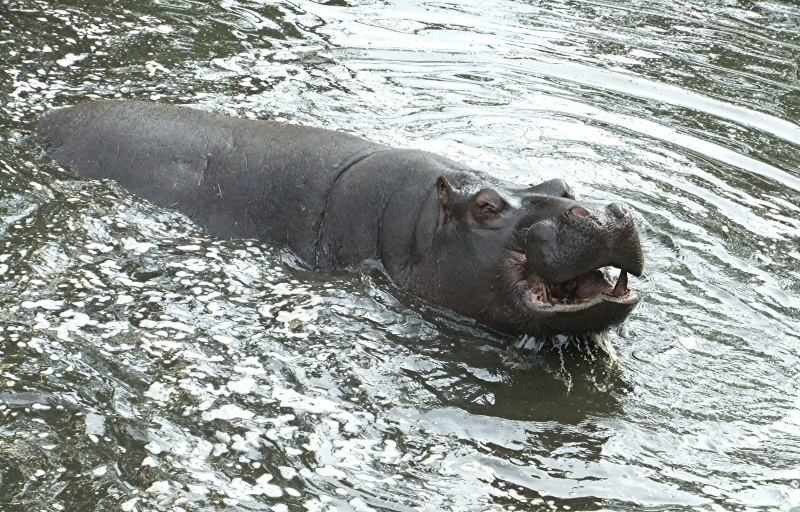hipopotamo: (14, 86, 664, 368)
